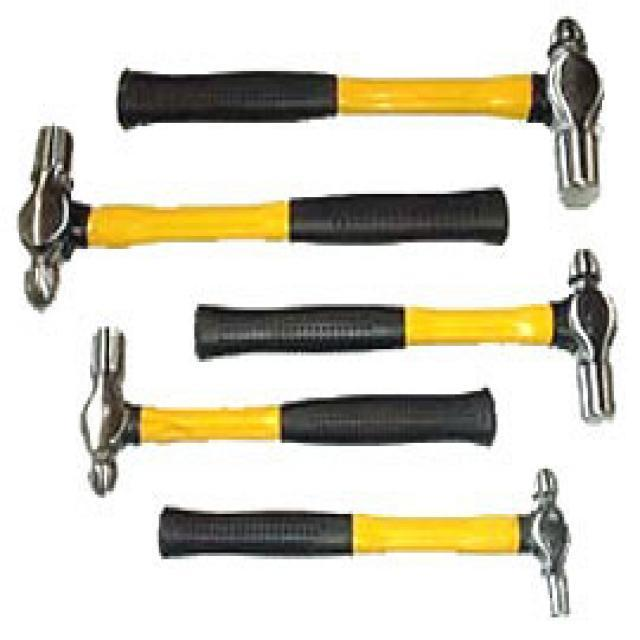hammer: (9, 127, 533, 300), (102, 14, 614, 189), (133, 464, 590, 626), (188, 242, 618, 401), (42, 316, 203, 502)
